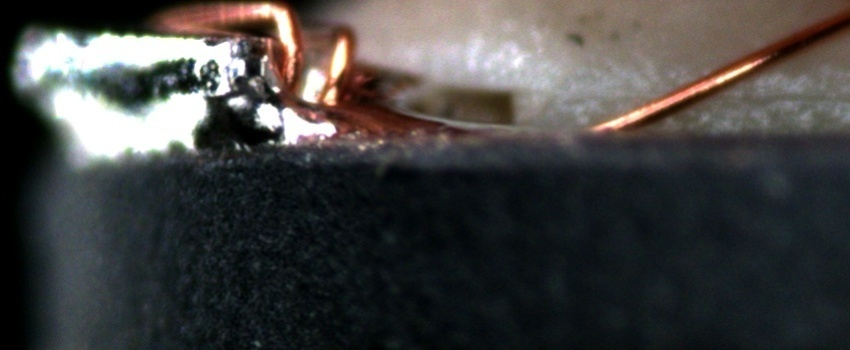DL: (711, 76, 849, 111)
TE: (146, 2, 360, 105)
